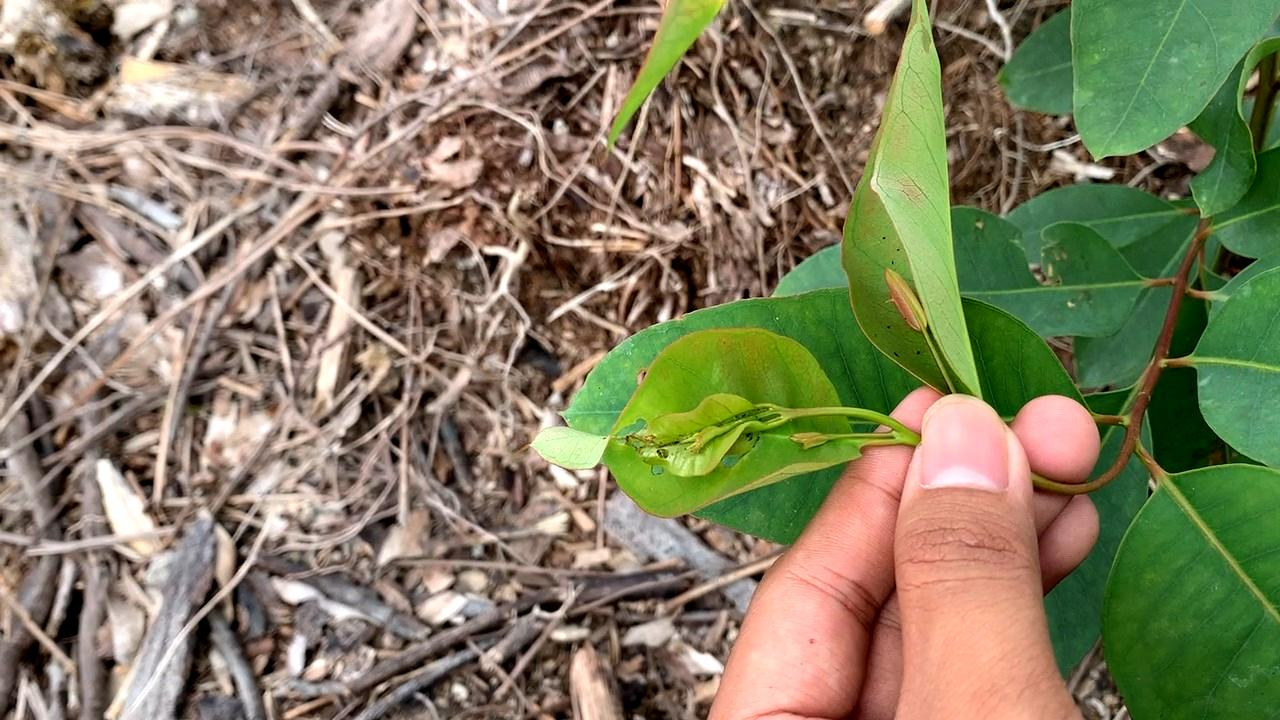Leaf Roller - Leaf: (538, 336, 855, 512)
